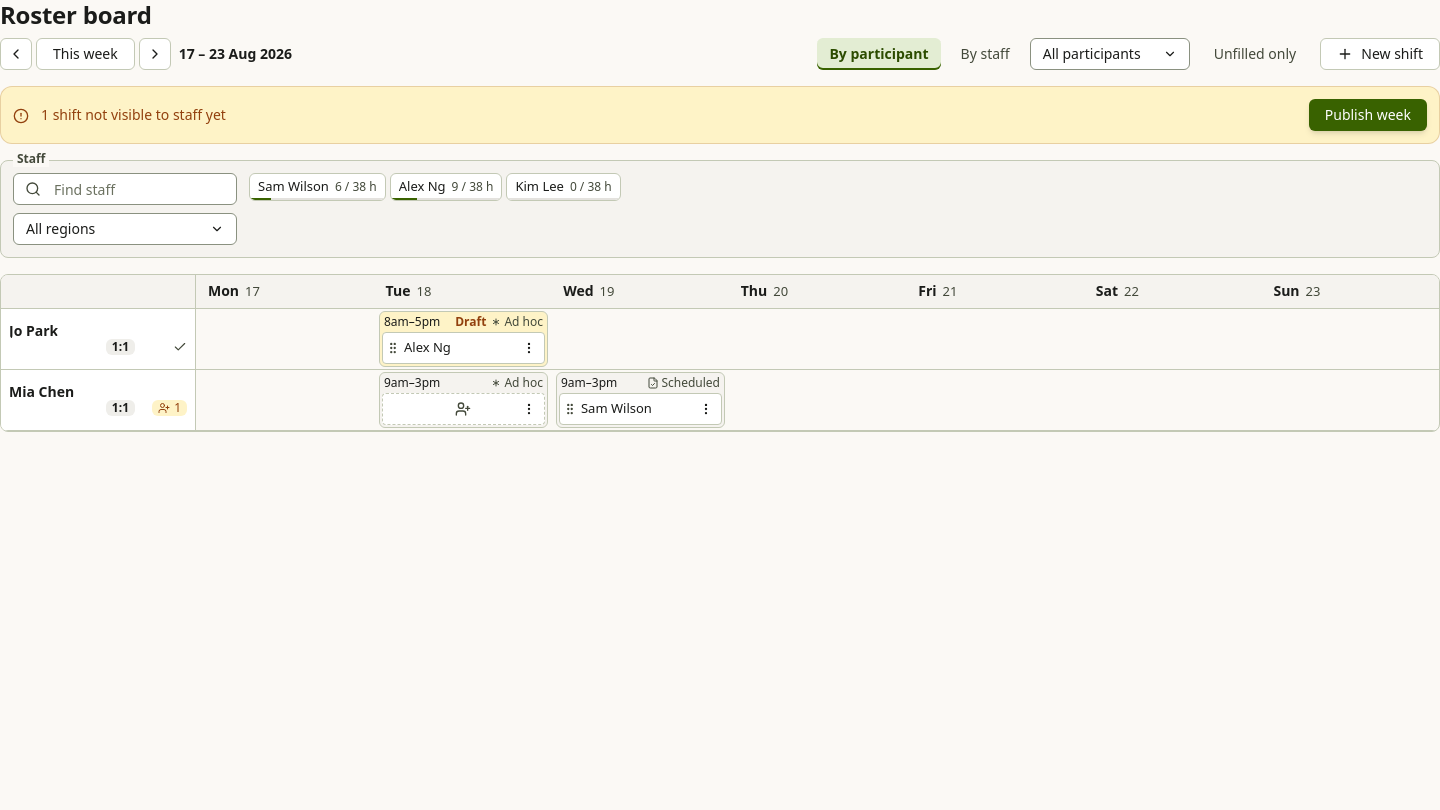
Test case: the board-changed 409 offers Refresh the board (real QueryClient) › puts the action under the message, in the text column: only the dismiss X is in the actions slot
expect the element showing "9am–3pm Scheduled Sam Wilson" is shown: met, box [556,372,725,428]
What coordinates should you click on to do the following:
click the button named "Assign someone to Tuesday 9am to 3pm for Mia"
I would click on:
 (450, 408)
Its box is [382,392,517,424].
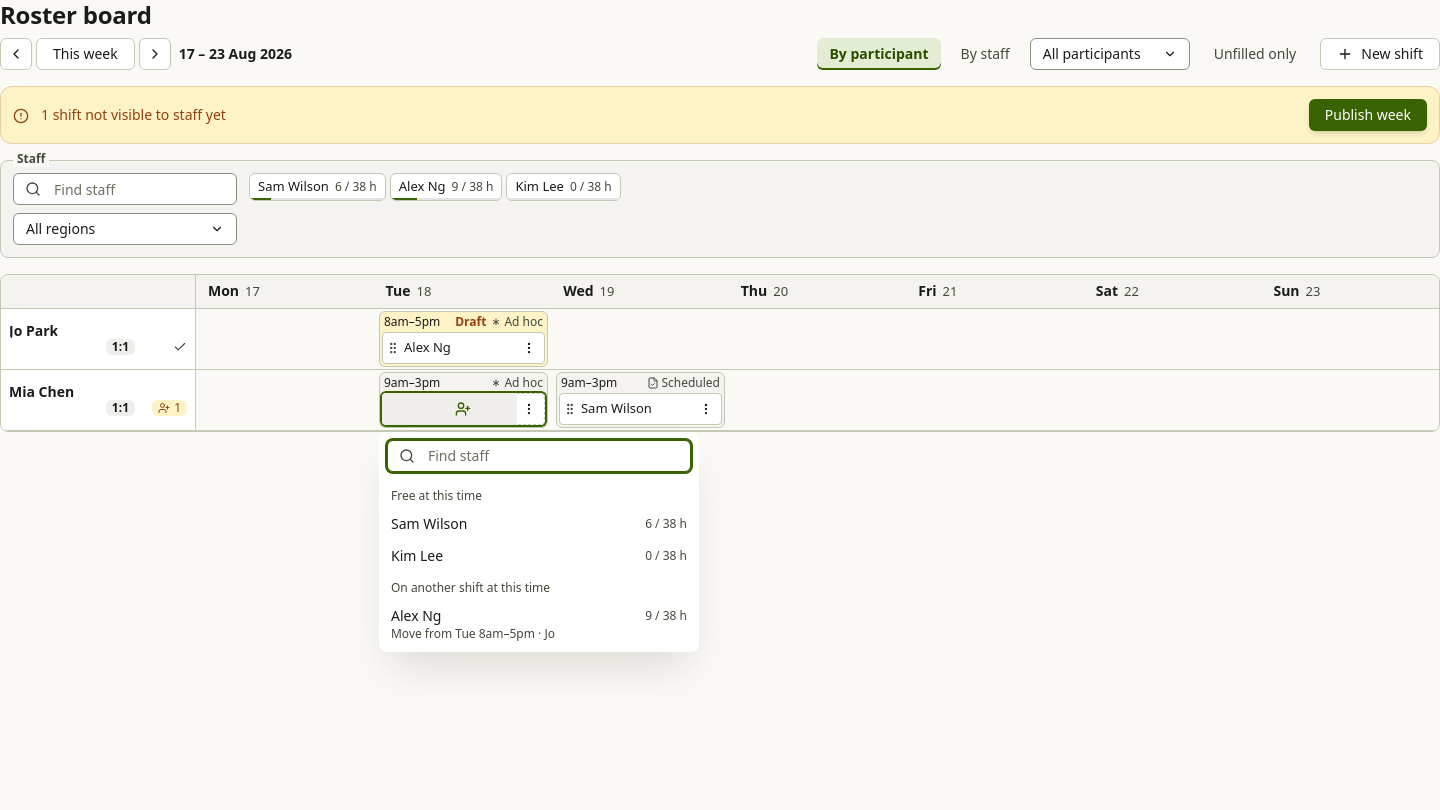
What coordinates should you click on to do the following:
click the option "Kim Lee 0 / 38 h"
I would click on:
 (417, 555)
Its box is [391,546,687,564].
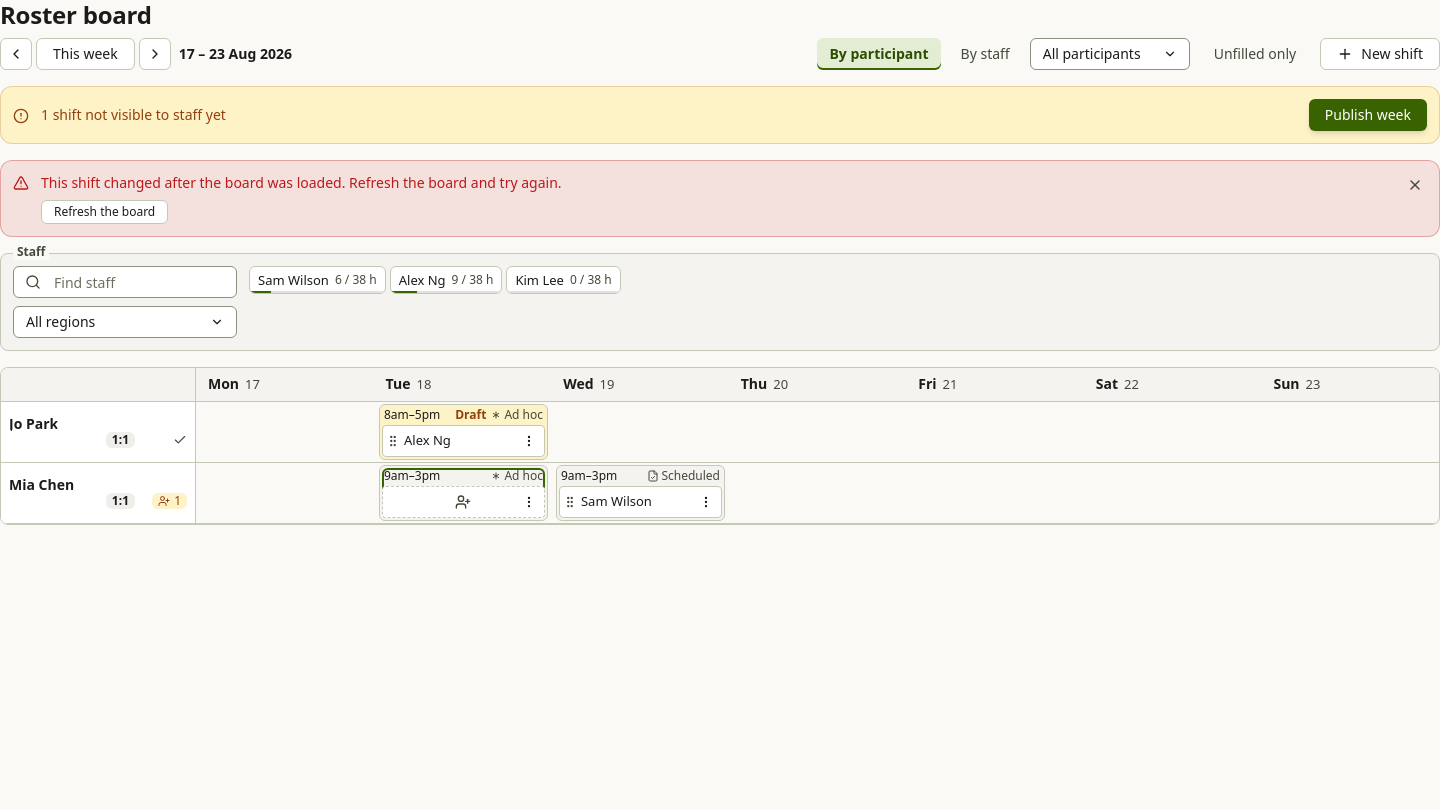
expect the text "This shift changed after the board was loaded. Refresh the board and try again." is shown: met, box [41,173,562,192]
expect the message "Refresh the board" is shown: met, box [0,160,1439,237]
